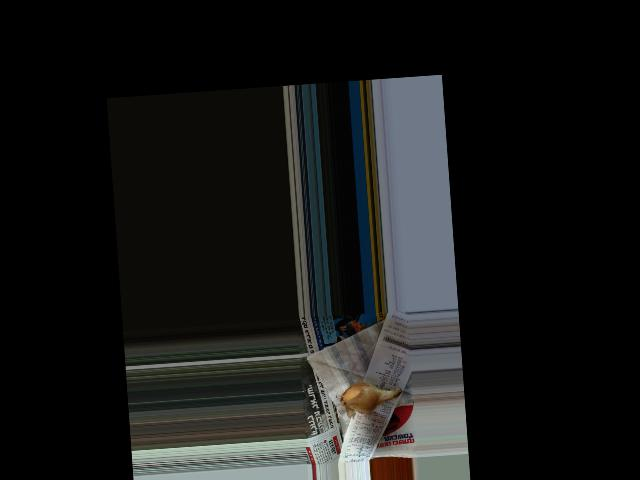onion: (345, 379, 384, 414)
